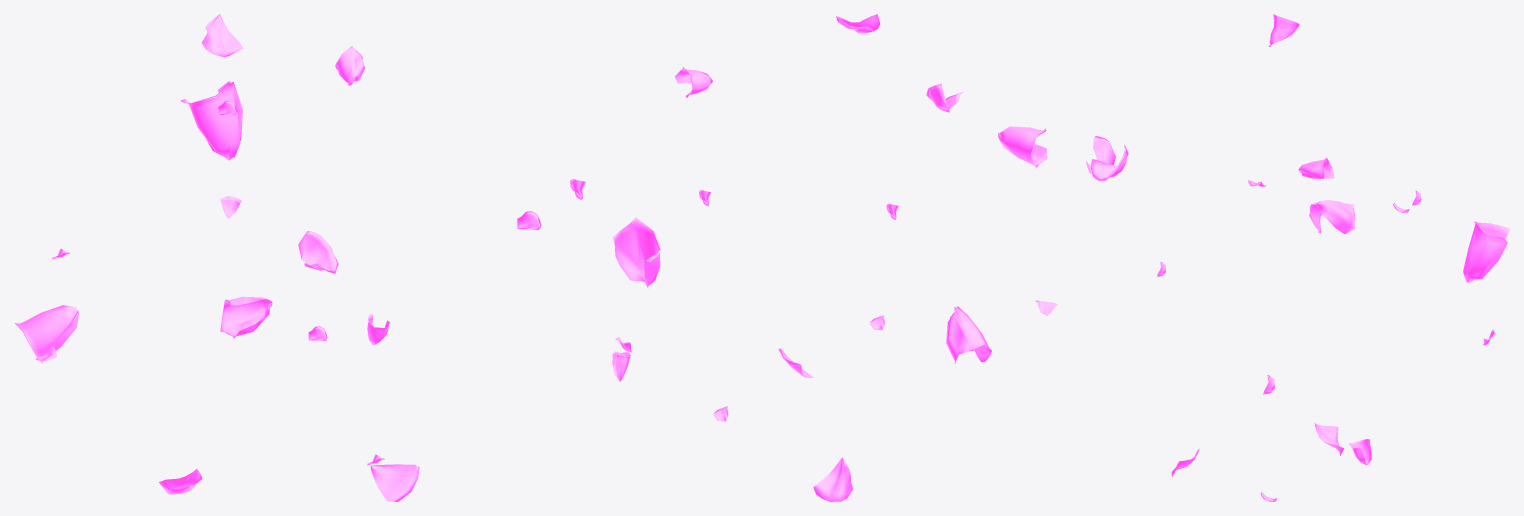
Rendered from Rumii_Magic_Wand_Small_Petals.fbx.
3 views of the same model, side by side, from view 1: azimuth 30°, elevation 25°; view 2: azimuth 150°, elevation 25°; view 3: azimuth 270°, elevation 25° (orthographic). The views are drawn at different scales.
Parts seen in each view (by area): view 1: small_petal6.002, small_petal6, small_petal6.004, small_petal4, small_petal5, small_petal2, small_petal6.003, small_petal2.002; view 2: small_petal6.002, small_petal6, small_petal6.004, small_petal2.002, small_petal6.003; view 3: small_petal6.002, small_petal6, small_petal5, small_petal6.003, small_petal2, small_petal6.004.
Boxes of the visible parts, x1=… form: small_petal6.002: x1=180, y1=81, x2=242, y2=160; small_petal6: x1=15, y1=305, x2=78, y2=363; small_petal6.004: x1=220, y1=296, x2=272, y2=338; small_petal4: x1=370, y1=464, x2=419, y2=501; small_petal5: x1=298, y1=231, x2=338, y2=273; small_petal2: x1=201, y1=14, x2=243, y2=57; small_petal6.003: x1=335, y1=46, x2=364, y2=85; small_petal2.002: x1=159, y1=468, x2=202, y2=494; small_petal6.002: x1=612, y1=217, x2=660, y2=288; small_petal6: x1=946, y1=306, x2=991, y2=363; small_petal6.004: x1=998, y1=126, x2=1047, y2=169; small_petal2.002: x1=813, y1=457, x2=853, y2=501; small_petal6.003: x1=675, y1=67, x2=712, y2=97; small_petal6.002: x1=1463, y1=221, x2=1509, y2=282; small_petal6: x1=1309, y1=199, x2=1355, y2=233; small_petal5: x1=1090, y1=145, x2=1128, y2=181; small_petal6.003: x1=1298, y1=158, x2=1334, y2=178; small_petal2: x1=1268, y1=14, x2=1299, y2=46; small_petal6.004: x1=1086, y1=136, x2=1115, y2=173.
Bounding box in the file's own units: 22.68 × 21.1 × 18.6.
